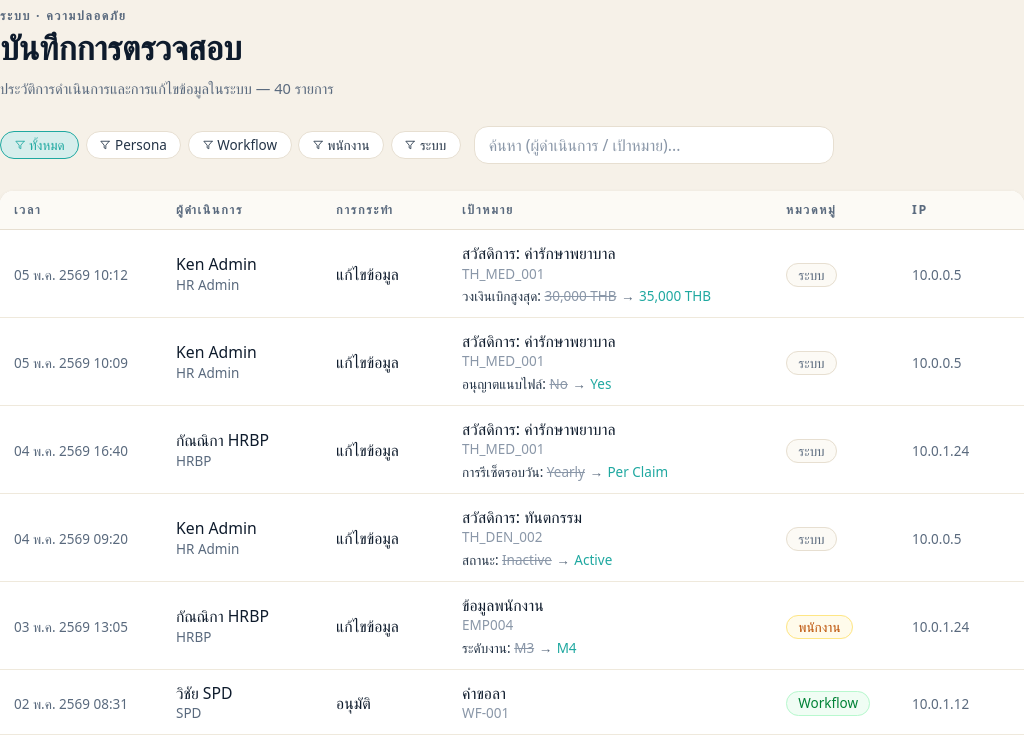
Test: Audit Log — record change history (STA-80) › search by record id narrows to that record
Step 1. Type "TH_MED_001" into the field → (654, 145), box [474,126,834,164]
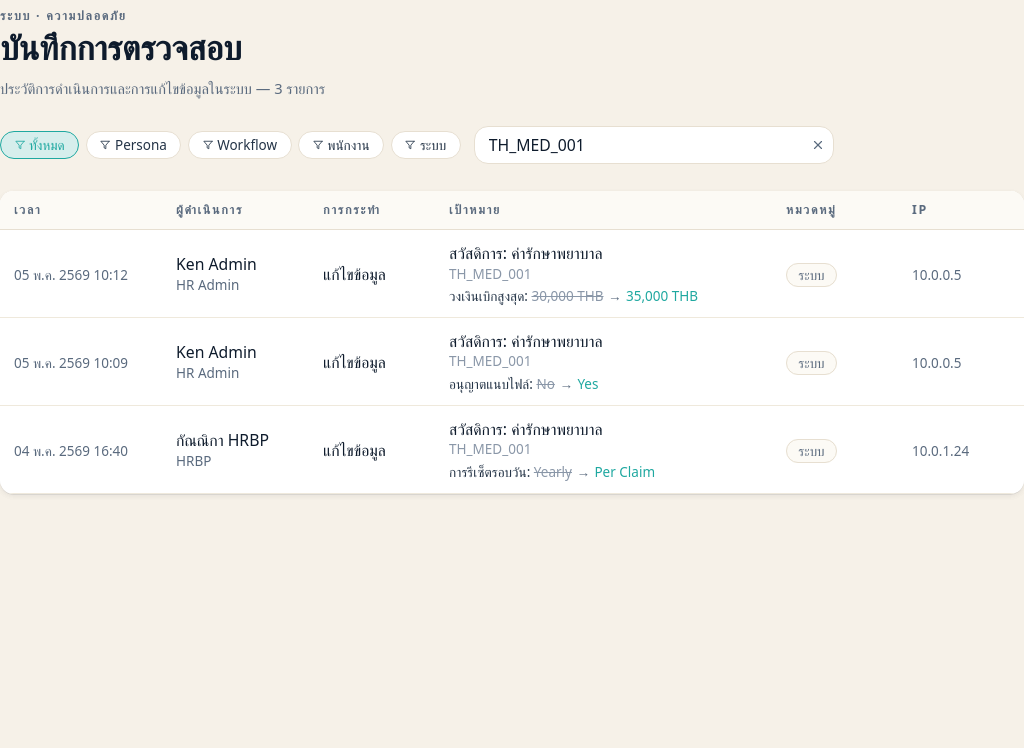
expect the text "TH_MED_001" in the row of "05 พ.ค. 2569 10:12" is shown: met, box [449,264,531,282]
expect the text "EMP004" is gone: met
